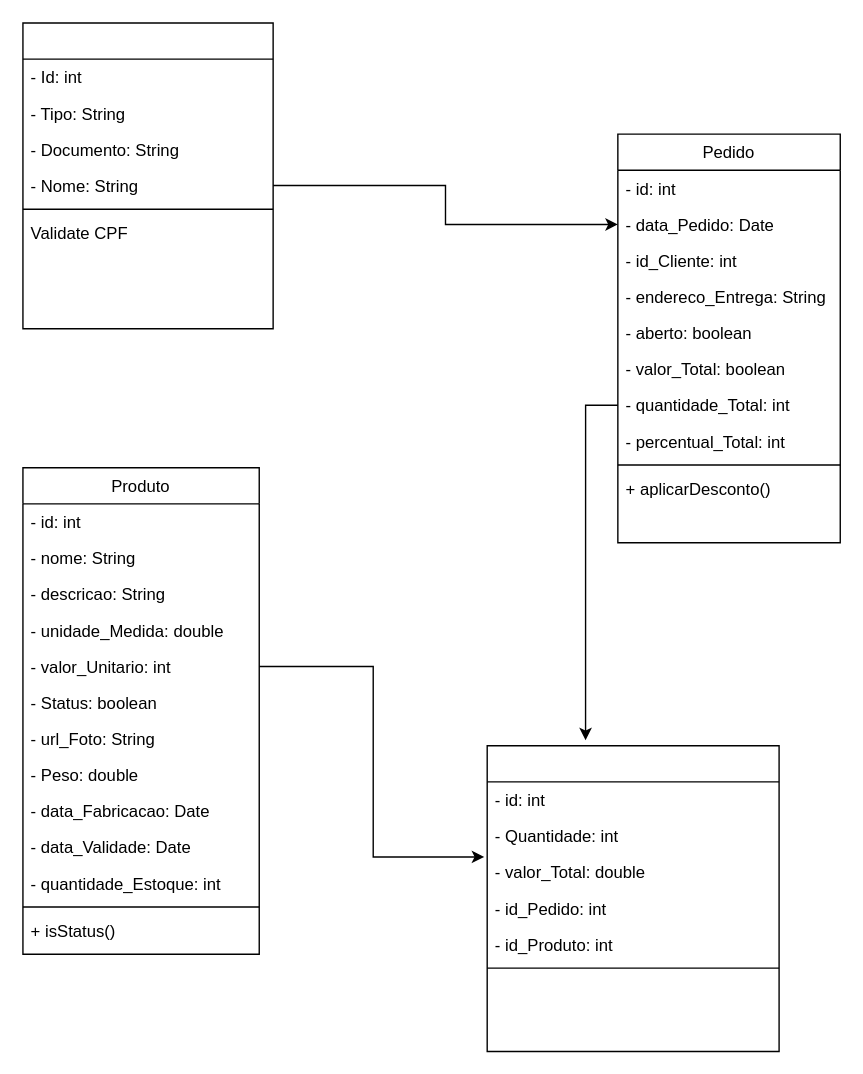
The diagram is 863 pixels wide and 1074 high, and some of its shapes have lost their labels. The box of each missing label's shape, as (x1, y1, x2, y2) in pixels:
Cliente: (22, 22, 273, 329)
item_Pedido: (486, 744, 779, 1052)
